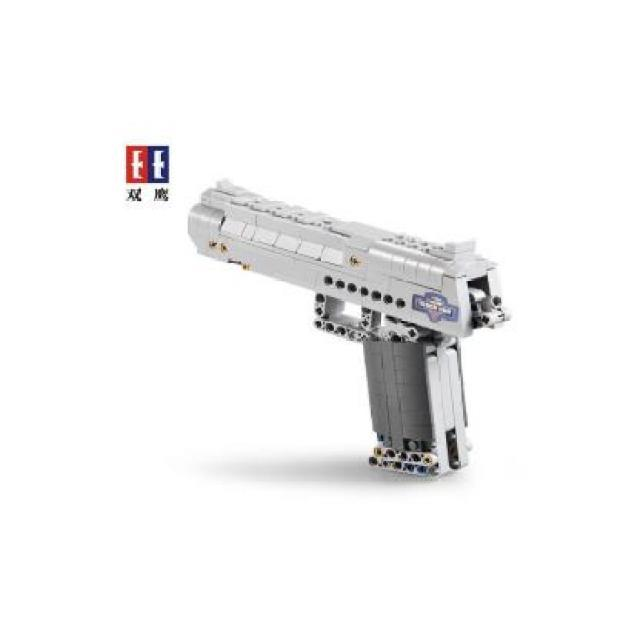Pistol: (113, 152, 550, 495)
